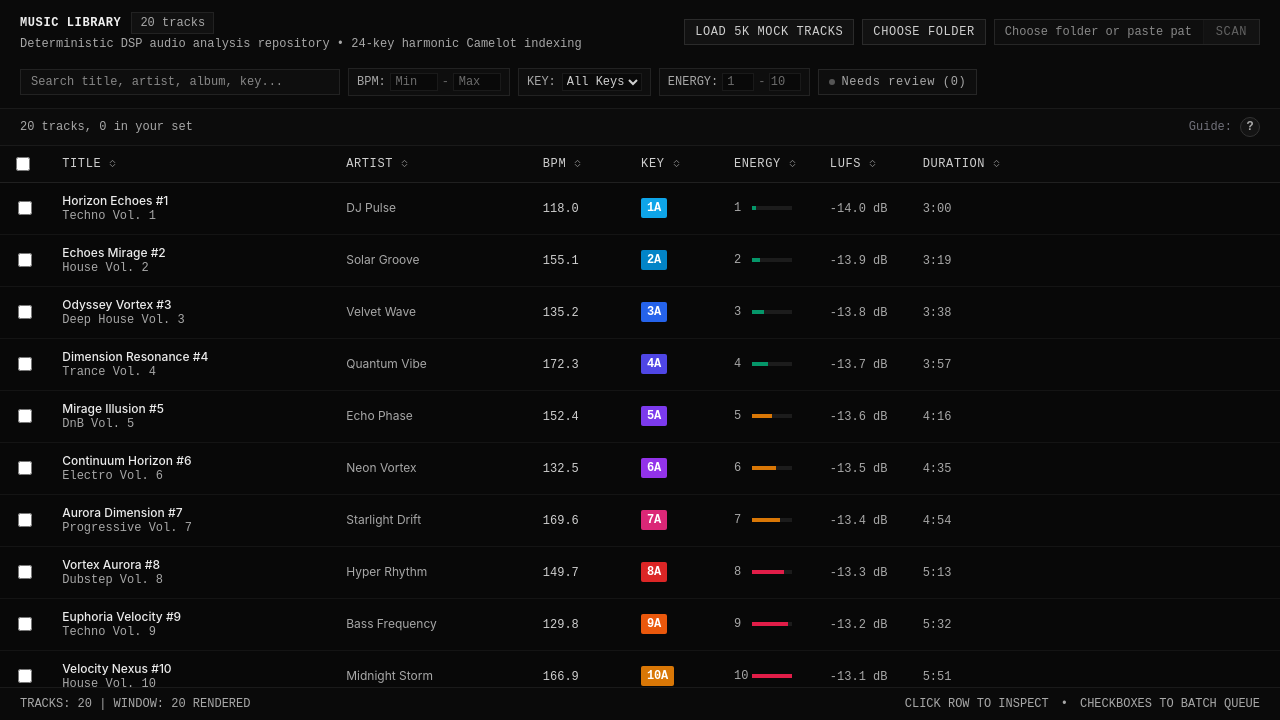
it: LibraryView Component › toggles 5,000 mock tracks benchmark mode smoothly
This screenshot has width=1280, height=720.
What coordinates should you click on to do the following:
click the button "Load 5K Mock Tracks"
I would click on:
 (769, 32)
Its box is [684,19,854,45].
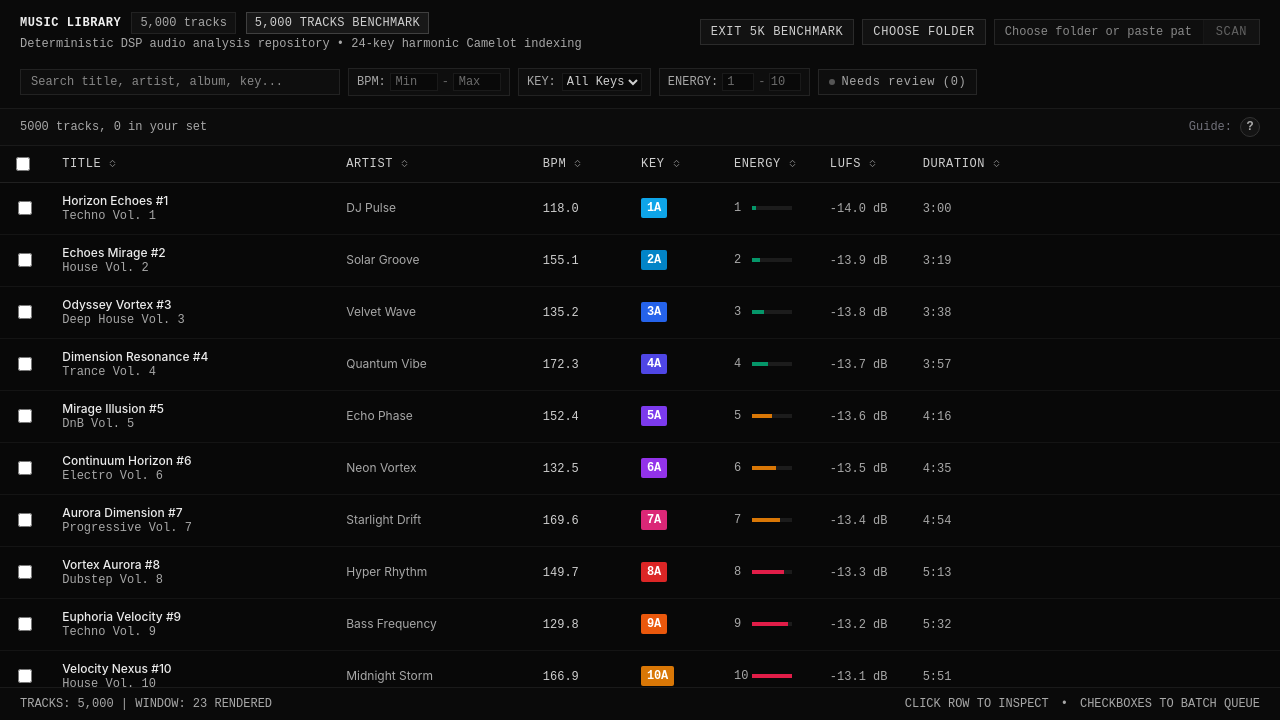
Check: the text "5,000 Tracks Benchmark" is shown, box [246,12,429,34]
Check: the button "Exit 5K Benchmark" is shown
Toggle off
What coordinates should you click on to do the following:
click the button "Exit 5K Benchmark"
I would click on:
 (777, 32)
Its box is [700,19,854,45].
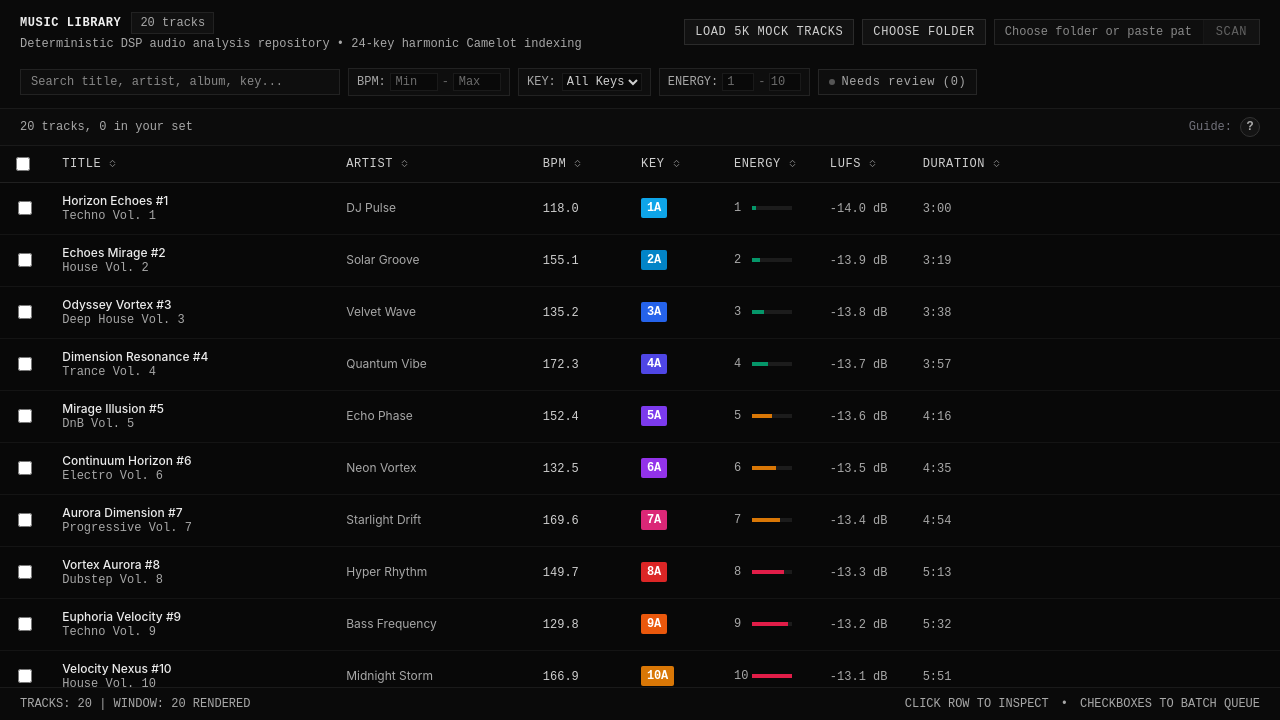
Check: the button "Load 5K Mock Tracks" is shown, box [684,19,854,45]
